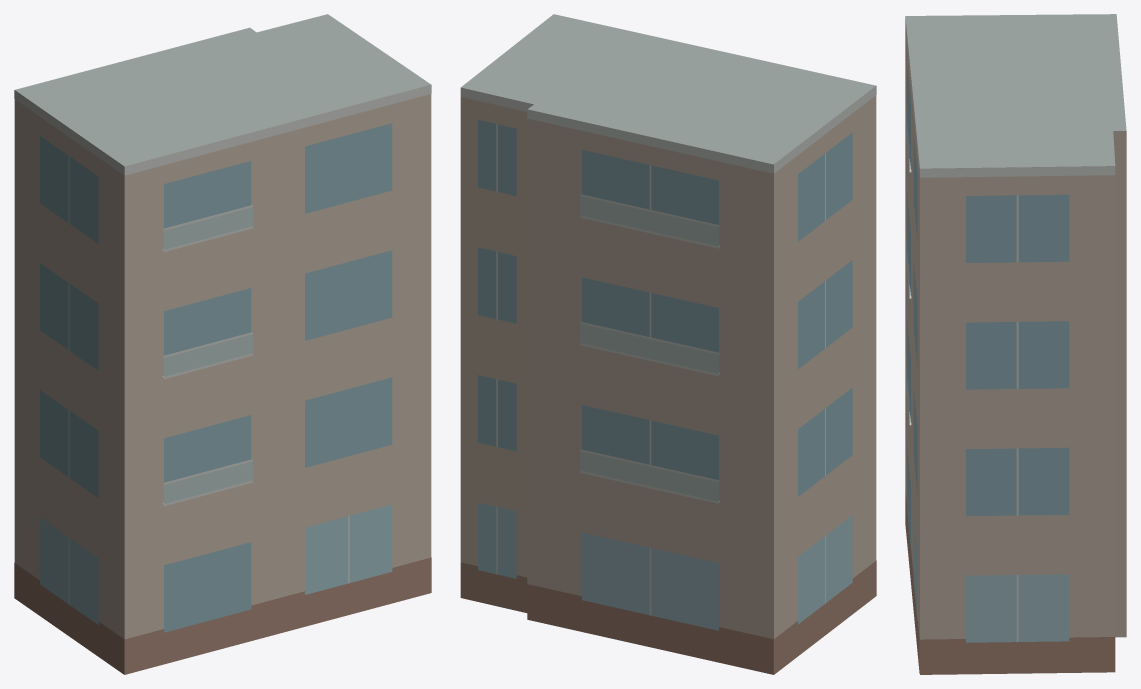
File: survey-upis-32465390.glb
3 views of the same model, side by side, from view 1: azimuth 30°, elevation 25°; view 2: azimuth 150°, elevation 25°; view 3: azimuth 270°, elevation 25° (orthographic).
Visible parts, largest first — view 1: survey-upis-32465390.tmp; view 2: survey-upis-32465390.tmp; view 3: survey-upis-32465390.tmp.
Part boxes in pixels (left/top/right/bottom): survey-upis-32465390.tmp: left=14, top=14, right=431, bottom=674; survey-upis-32465390.tmp: left=460, top=14, right=876, bottom=674; survey-upis-32465390.tmp: left=905, top=14, right=1126, bottom=674.
Size of the model in its own units: 8.85 by 13.5 by 5.36.
